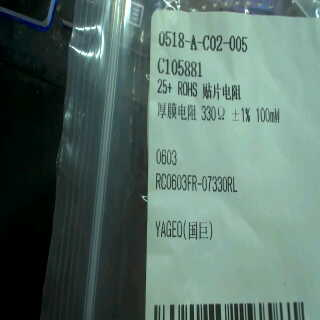330R: (200, 105, 231, 124)
